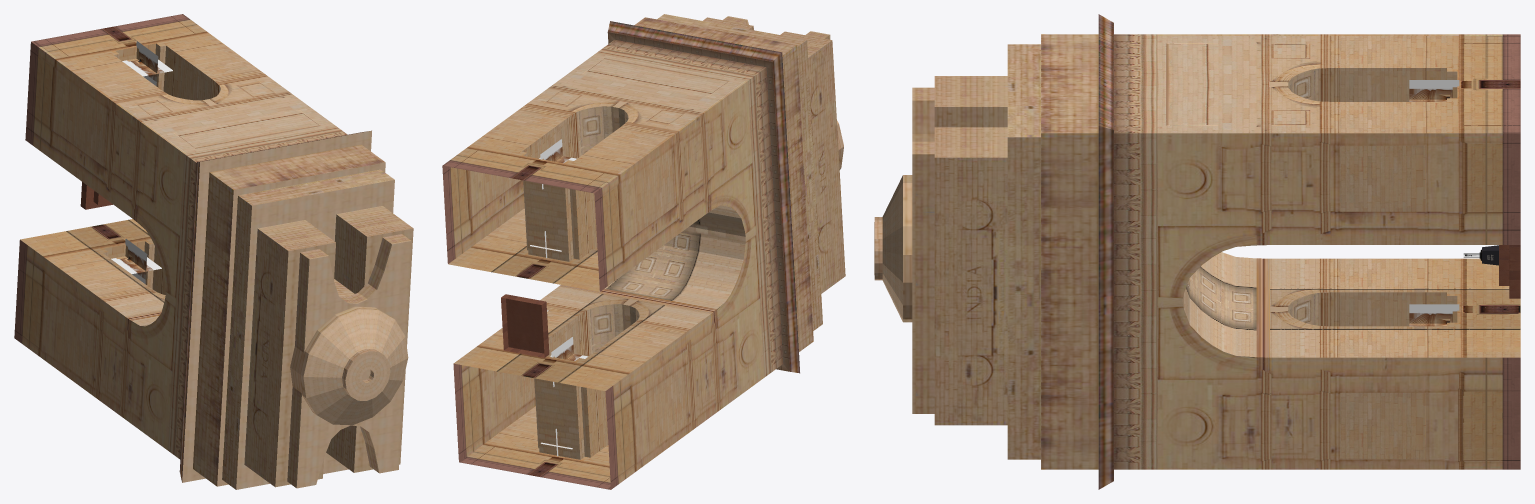
The model's file is indiagate.glb.
The picture shows the model from 3 angles, left to right: view 1: azimuth 30°, elevation 25°; view 2: azimuth 150°, elevation 25°; view 3: azimuth 270°, elevation 25°; orthographic projection. The views are drawn at different scales.
Visible parts, largest first — view 1: India gate; view 2: India gate; view 3: India gate.
Part boxes in pixels (<box>): India gate: <box>14,14,413,489</box>; India gate: <box>442,14,845,489</box>; India gate: <box>874,14,1520,489</box>.
Bounding box in the file's own units: 0.5806 × 0.9556 × 1.45.
Materials: 1 (1 with a texture image).
